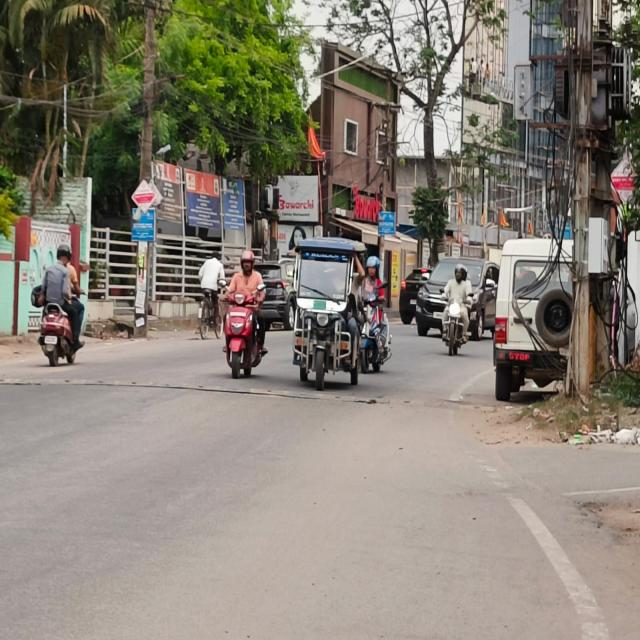bike: (217, 281, 269, 380), (39, 287, 78, 367), (442, 288, 478, 362)
car: (490, 235, 574, 403), (417, 254, 503, 340)
